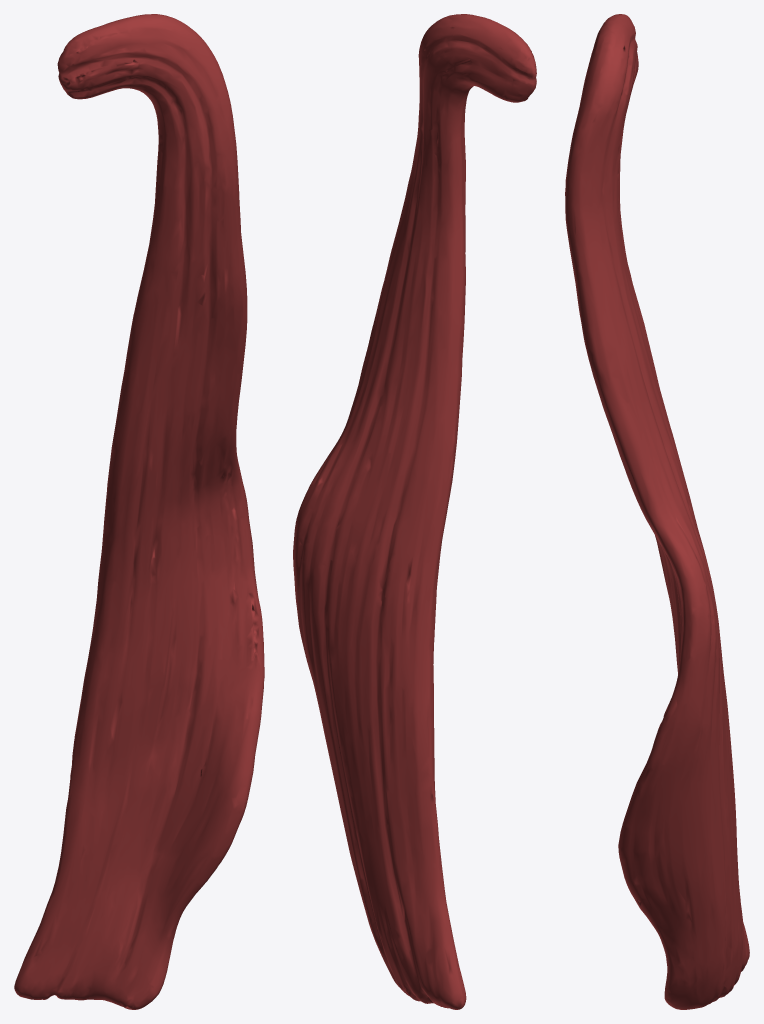
The model's file is palatopharyngeus-muscle-l.glb.
3 renders of one model, left to right at view 1: azimuth 30°, elevation 25°; view 2: azimuth 150°, elevation 25°; view 3: azimuth 270°, elevation 25°, orthographic. The views are drawn at different scales.
Parts seen in each view (by area): view 1: Palatopharyngeus muscle.l; view 2: Palatopharyngeus muscle.l; view 3: Palatopharyngeus muscle.l.
Part boxes in pixels (x1,y1,x2,y2): Palatopharyngeus muscle.l: (14, 14, 264, 1009); Palatopharyngeus muscle.l: (293, 14, 536, 1009); Palatopharyngeus muscle.l: (565, 14, 749, 1009).
Bounding box in the file's own units: 0.0205 × 0.088 × 0.0153.
